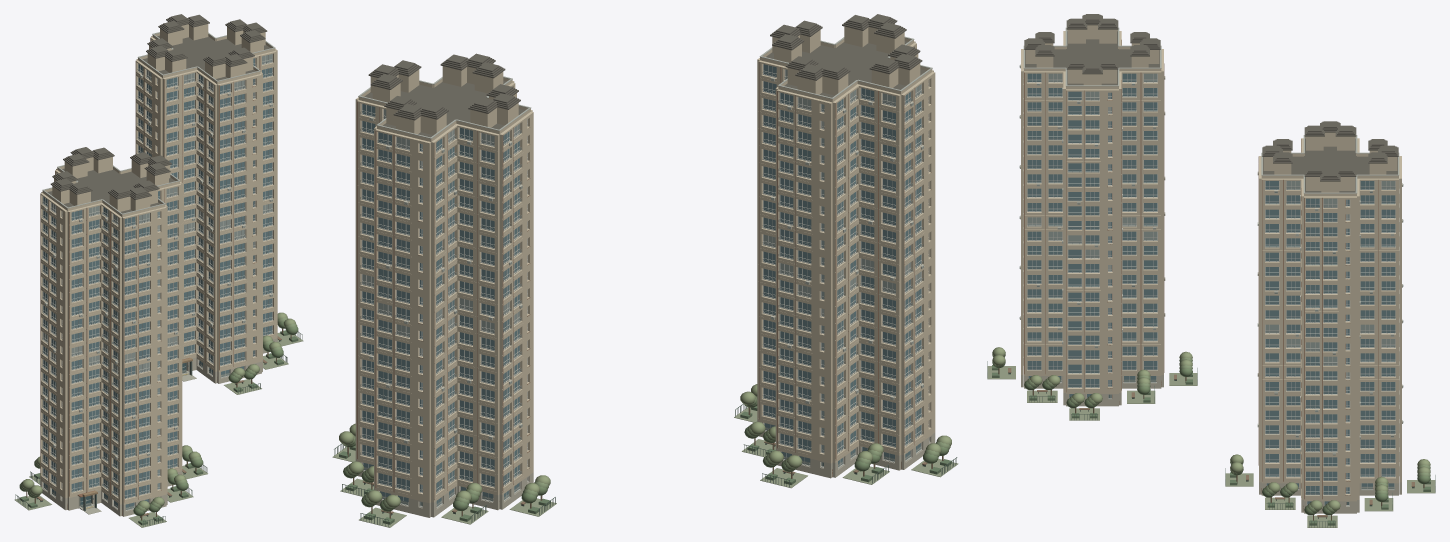
The model's file is middle-3.glb.
3 renders of one model, left to right at view 1: azimuth 30°, elevation 25°; view 2: azimuth 150°, elevation 25°; view 3: azimuth 270°, elevation 25°, orthographic. The views are drawn at different scales.
Visible parts, largest first — view 1: korean-facade-parts-d5c9af, korean-facade-surface-728d91, korean-facade-parts-e0dfd3, korean-facade-parts-8f9b97, korean-facade-parts-716e64, korean-facade-parts-9b7860, middle-3, korean-facade-surface-9eaaa4, korean-facade-parts-9ba48a, korean-facade-parts-c5c0ae, korean-facade-parts-94a17c, korean-facade-parts-778b69 (+5 smaller); view 2: korean-facade-parts-d5c9af, korean-facade-surface-728d91, korean-facade-parts-e0dfd3, korean-facade-parts-8f9b97, korean-facade-parts-9b7860, korean-facade-parts-716e64, middle-3, korean-facade-parts-9ba48a, korean-facade-parts-c5c0ae, korean-facade-surface-9eaaa4, korean-facade-parts-94a17c, korean-facade-parts-778b69 (+5 smaller); view 3: korean-facade-parts-d5c9af, korean-facade-surface-728d91, korean-facade-parts-e0dfd3, korean-facade-parts-8f9b97, korean-facade-parts-716e64, korean-facade-parts-9b7860, middle-3, korean-facade-parts-9ba48a, korean-facade-surface-9eaaa4, korean-facade-parts-94a17c, korean-facade-parts-c5c0ae, korean-facade-surface-d5c9af (+5 smaller).
Boxes of the visible parts, <box> form: korean-facade-parts-d5c9af: <box>40,22,277,504</box>; korean-facade-surface-728d91: <box>43,58,272,507</box>; korean-facade-parts-e0dfd3: <box>42,54,272,498</box>; korean-facade-parts-8f9b97: <box>42,60,272,498</box>; korean-facade-parts-716e64: <box>50,14,267,199</box>; korean-facade-parts-9b7860: <box>40,38,260,515</box>; middle-3: <box>47,35,270,509</box>; korean-facade-surface-9eaaa4: <box>43,54,272,380</box>; korean-facade-parts-9ba48a: <box>14,332,303,527</box>; korean-facade-parts-c5c0ae: <box>40,337,277,516</box>; korean-facade-parts-94a17c: <box>22,312,295,509</box>; korean-facade-parts-778b69: <box>19,321,298,515</box>; korean-facade-parts-d5c9af: <box>355,23,935,503</box>; korean-facade-surface-728d91: <box>362,64,921,503</box>; korean-facade-parts-e0dfd3: <box>361,64,929,492</box>; korean-facade-parts-8f9b97: <box>360,72,923,493</box>; korean-facade-parts-9b7860: <box>357,62,931,501</box>; korean-facade-parts-716e64: <box>368,14,922,120</box>; middle-3: <box>364,41,925,516</box>; korean-facade-parts-9ba48a: <box>332,407,958,527</box>; korean-facade-parts-c5c0ae: <box>355,419,935,517</box>; korean-facade-surface-9eaaa4: <box>362,69,921,355</box>; korean-facade-parts-94a17c: <box>339,384,951,507</box>; korean-facade-parts-778b69: <box>343,396,948,511</box>; korean-facade-parts-d5c9af: <box>1021,25,1401,501</box>; korean-facade-surface-728d91: <box>1027,73,1395,505</box>; korean-facade-parts-e0dfd3: <box>1023,69,1399,494</box>; korean-facade-parts-8f9b97: <box>1027,80,1395,495</box>; korean-facade-parts-716e64: <box>1024,14,1398,181</box>; korean-facade-parts-9b7860: <box>1024,40,1378,512</box>; middle-3: <box>1025,31,1397,192</box>; korean-facade-parts-9ba48a: <box>987,366,1435,527</box>; korean-facade-surface-9eaaa4: <box>1027,73,1395,378</box>; korean-facade-parts-94a17c: <box>992,347,1430,510</box>; korean-facade-parts-c5c0ae: <box>1021,375,1401,513</box>; korean-facade-surface-d5c9af: <box>1027,74,1395,493</box>.
Size of the model in its own units: 87.8 by 69.94 by 84.8.
